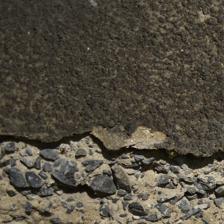Crack: (2, 123, 223, 173)
